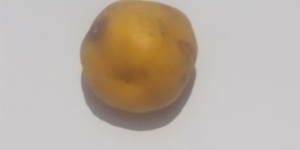BAD: (78, 1, 200, 114)
